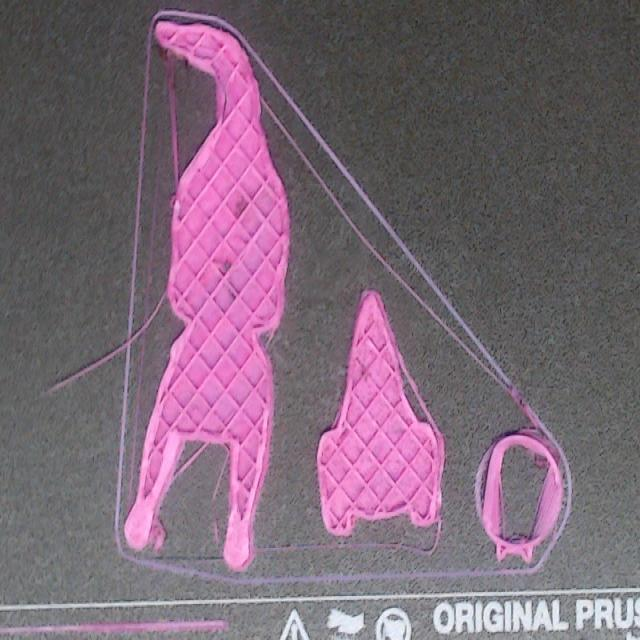mistake: (290, 139, 401, 279), (477, 429, 563, 563), (51, 291, 166, 388), (399, 353, 438, 432), (163, 49, 179, 208), (176, 445, 208, 479), (148, 517, 165, 549)
